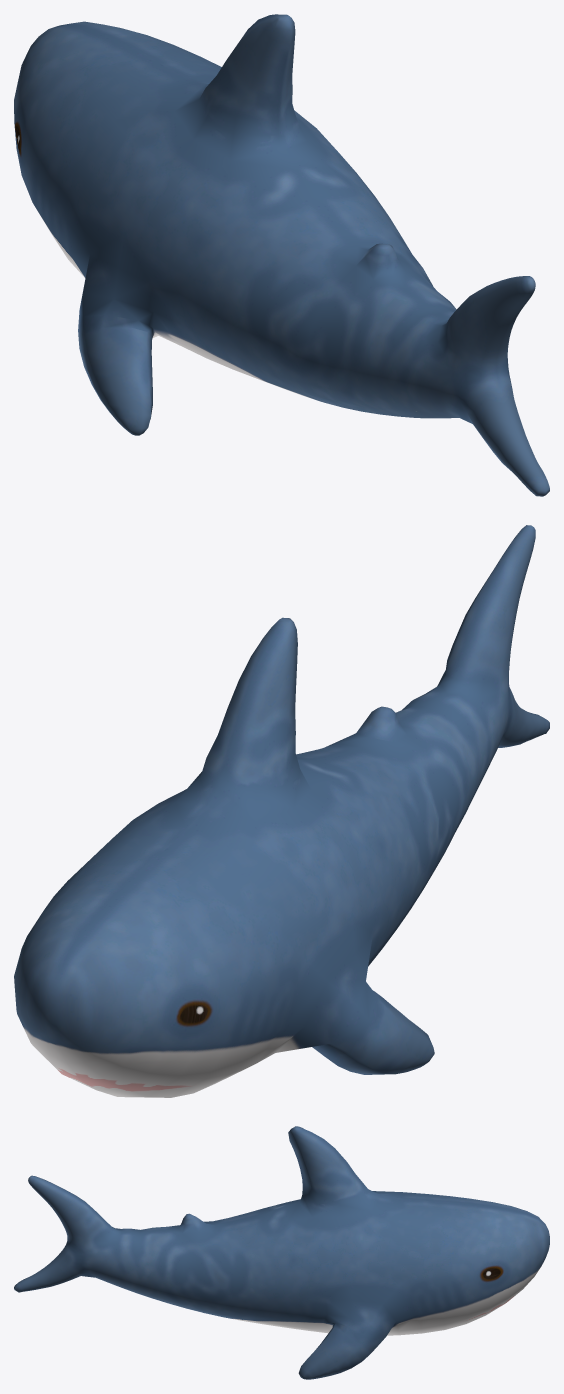
The model's file is Blahaj_Low_poly_blahaj1_Low_poly_blahaj1.gltf.
3 views of the same model, one above another, from view 1: azimuth 30°, elevation 25°; view 2: azimuth 150°, elevation 25°; view 3: azimuth 270°, elevation 25° (orthographic). The views are drawn at different scales.
Parts seen in each view (by area): view 1: Low_poly_blahaj1; view 2: Low_poly_blahaj1; view 3: Low_poly_blahaj1.
Part boxes in pixels (x1,y1,x2,y2): Low_poly_blahaj1: (14, 14, 549, 496); Low_poly_blahaj1: (14, 525, 549, 1097); Low_poly_blahaj1: (14, 1126, 549, 1379).
Size of the model in its own units: 0.418 by 0.5052 by 1.15.
Materials: 1 (1 with a texture image).
